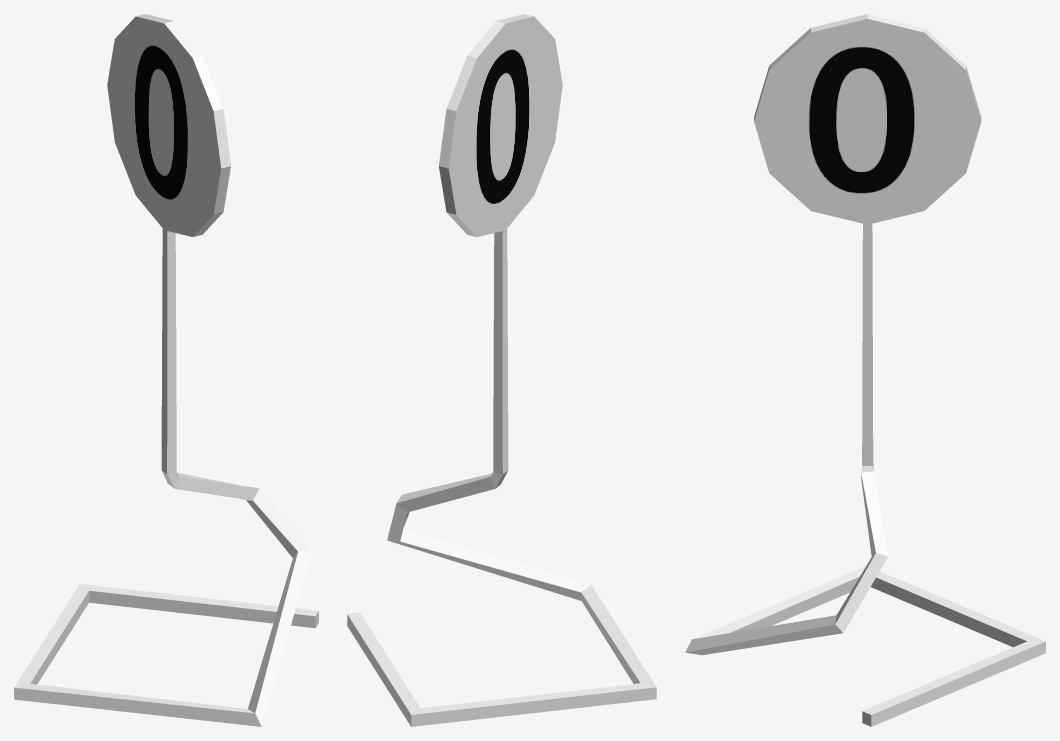
The model's file is Marker_0.FBX.
The picture shows the model from 3 angles, left to right: view 1: azimuth 30°, elevation 25°; view 2: azimuth 150°, elevation 25°; view 3: azimuth 270°, elevation 25°; orthographic projection.
Visible parts, largest first — view 1: Marker_0; view 2: Marker_0; view 3: Marker_0.
Boxes of the visible parts, box(x1,y1,x2,y2) form: Marker_0: box(14, 14, 318, 726); Marker_0: box(347, 14, 656, 726); Marker_0: box(685, 14, 1045, 726).
Size of the model in its own units: 4.03 by 8.02 by 4.11.
